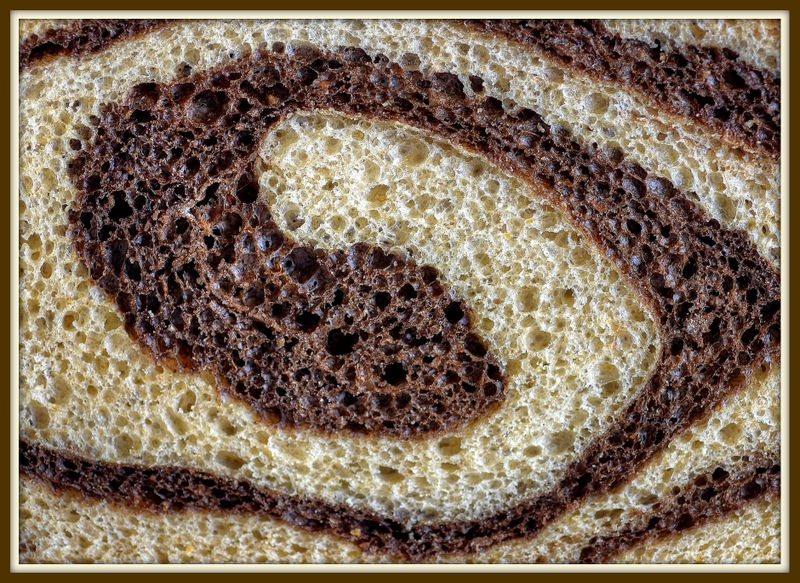slice of bread: (62, 43, 772, 553)
